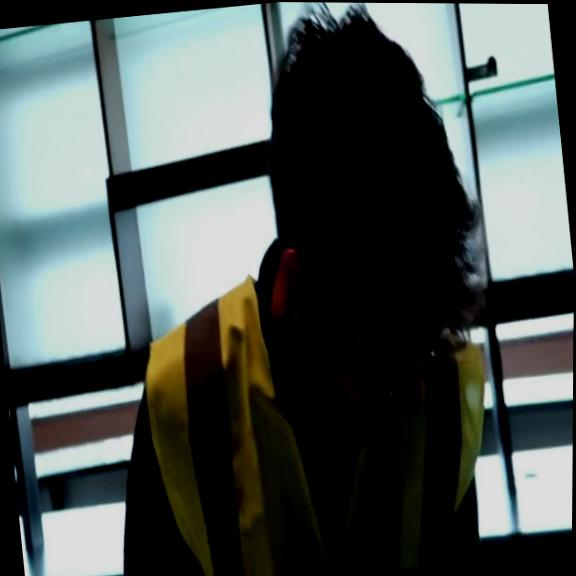safety_vest: (134, 258, 506, 576)
